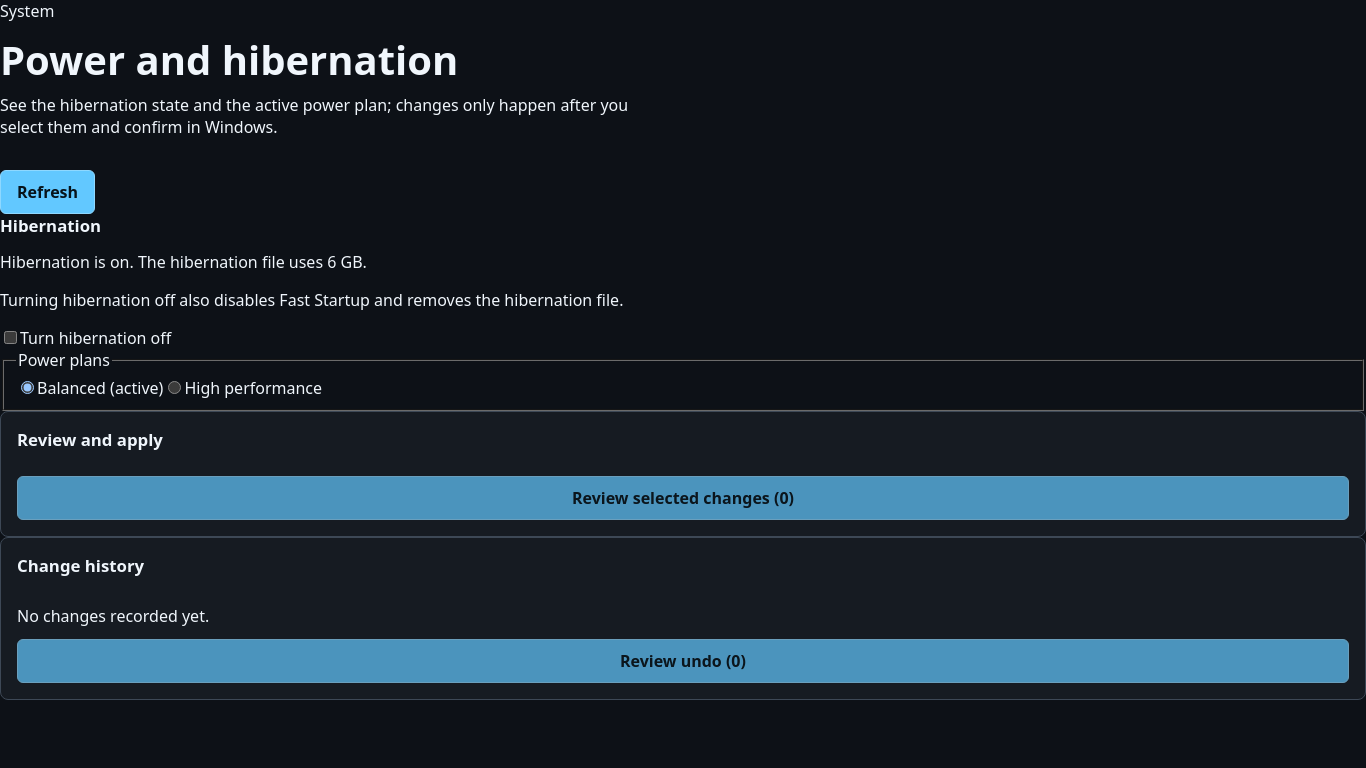
Test: sends the exact hibernation change and waits for Windows confirmation
Click the checkbox labelled "Turn hibernation off" at (10, 337), box x1=4 y1=331 x2=17 y2=344
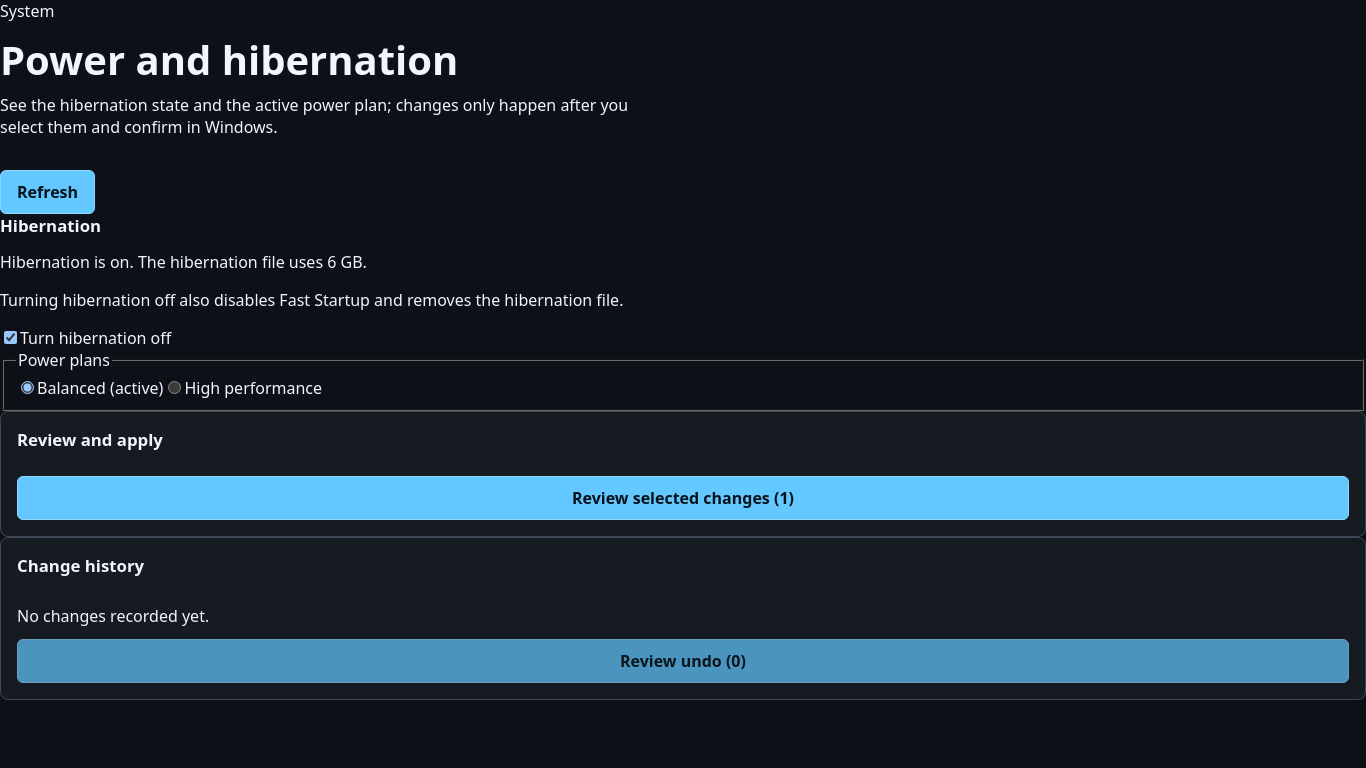
Click the button "Review selected changes (1)" at (683, 498), box x1=17 y1=476 x2=1349 y2=520
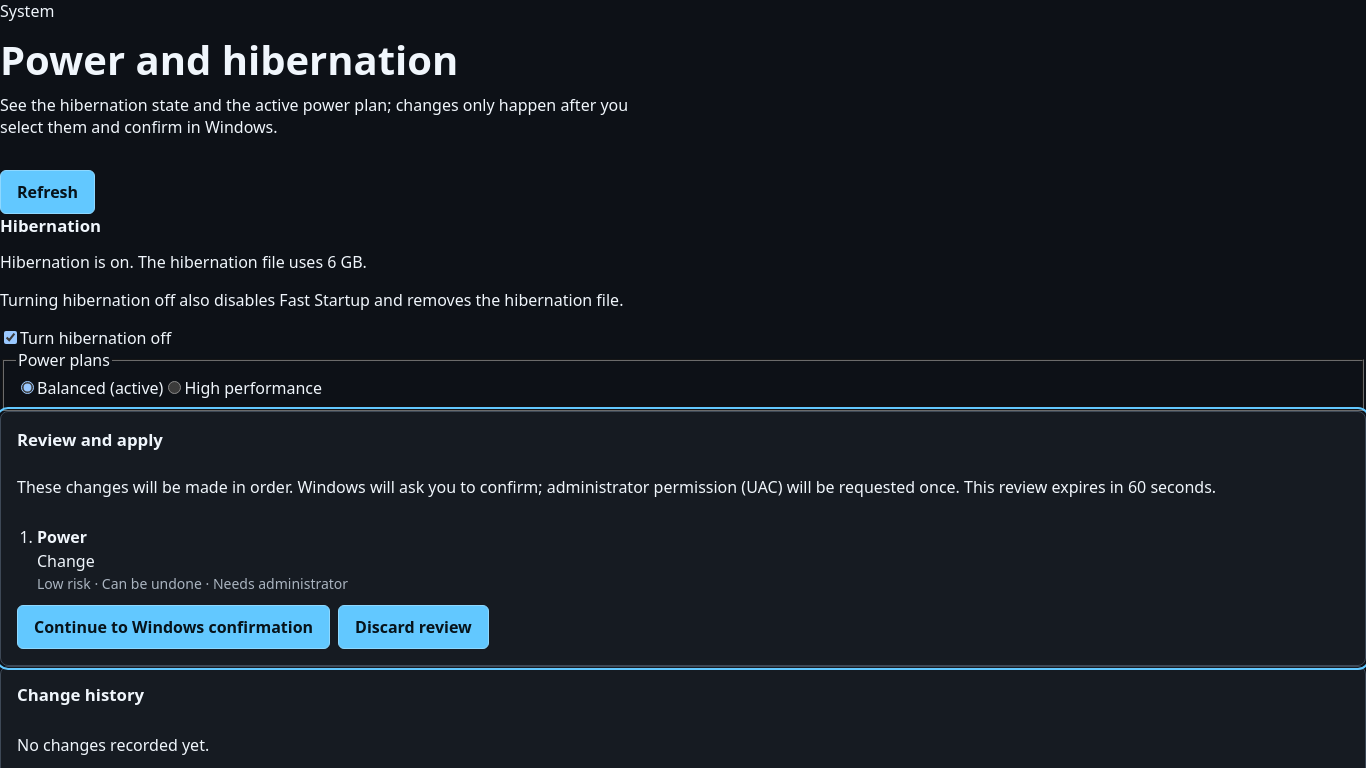
Expected: the button "Continue to Windows confirmation" is shown, x1=17 y1=606 x2=330 y2=650
